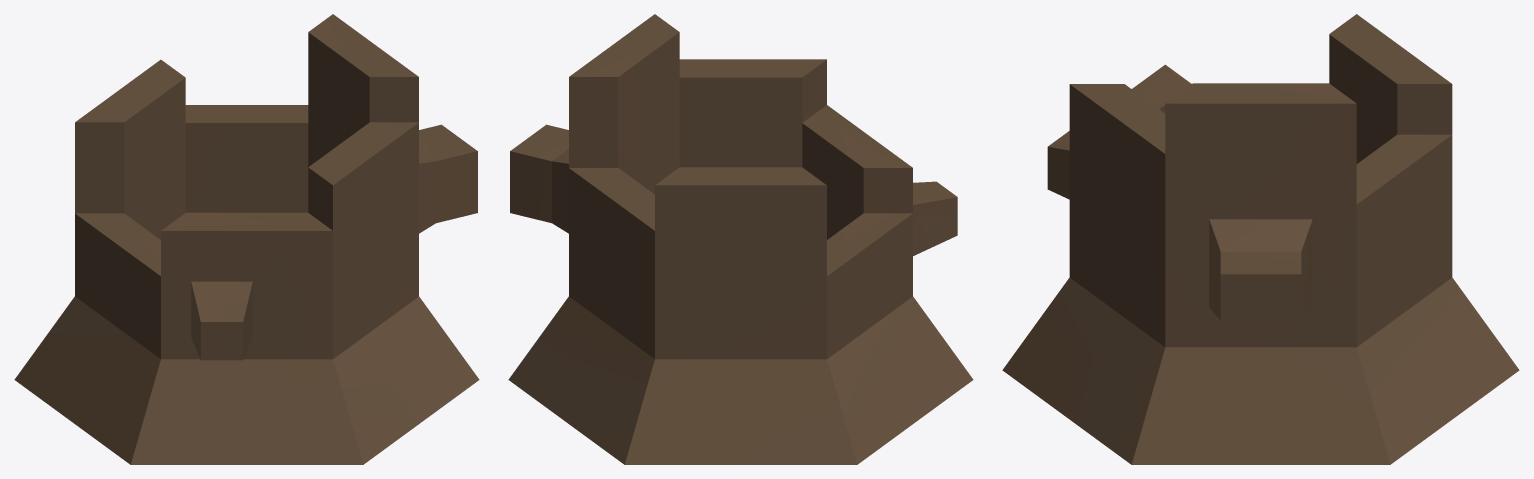
The model's file is stump_old.glb.
The picture shows the model from 3 angles, left to right: view 1: azimuth 30°, elevation 25°; view 2: azimuth 150°, elevation 25°; view 3: azimuth 270°, elevation 25°; orthographic projection. The views are drawn at different scales.
Parts seen in each view (by area): view 1: stump_old; view 2: stump_old; view 3: stump_old.
Part boxes in pixels (x1,y1,x2,y2): stump_old: [14, 14, 479, 464]; stump_old: [508, 14, 973, 464]; stump_old: [1002, 14, 1519, 464].
Bounding box in the file's own units: 0.3565 × 0.2665 × 0.371.
